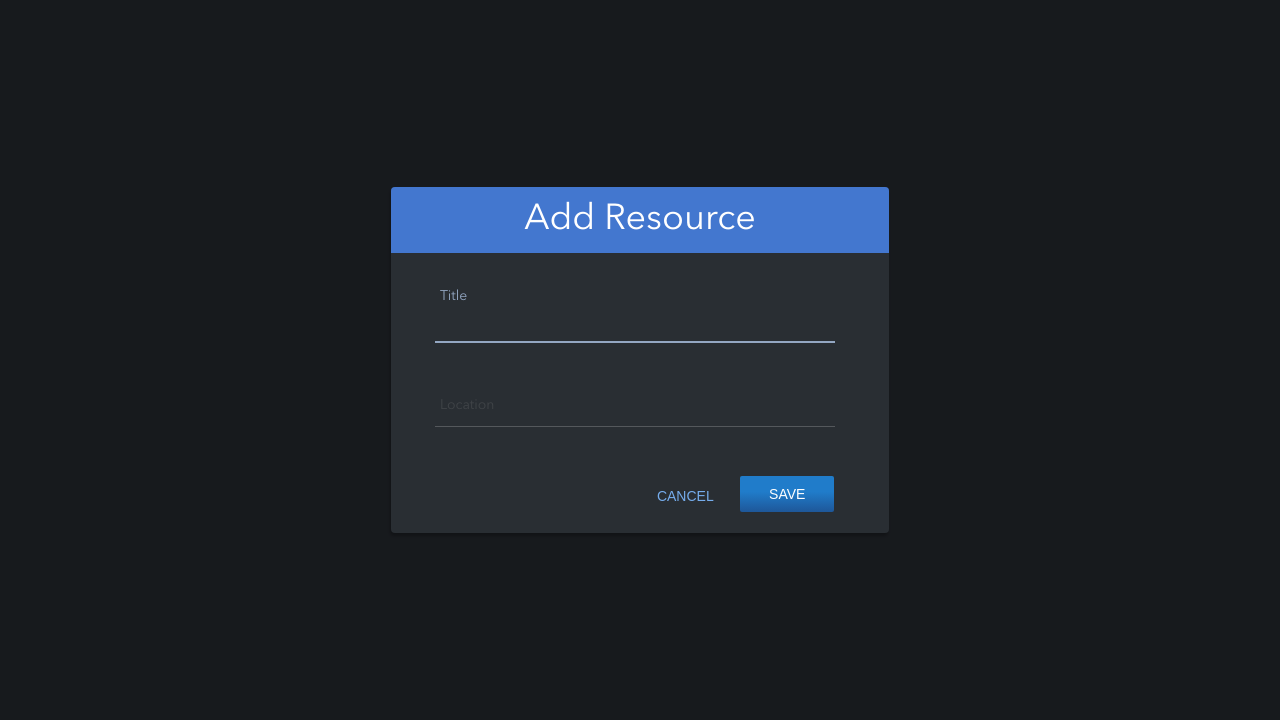
Test: AddResourcePopup › should stop you from inputting an invalid url
In the field with class "urlField": (635, 410) [435,392,835,427], type "www.google.com"
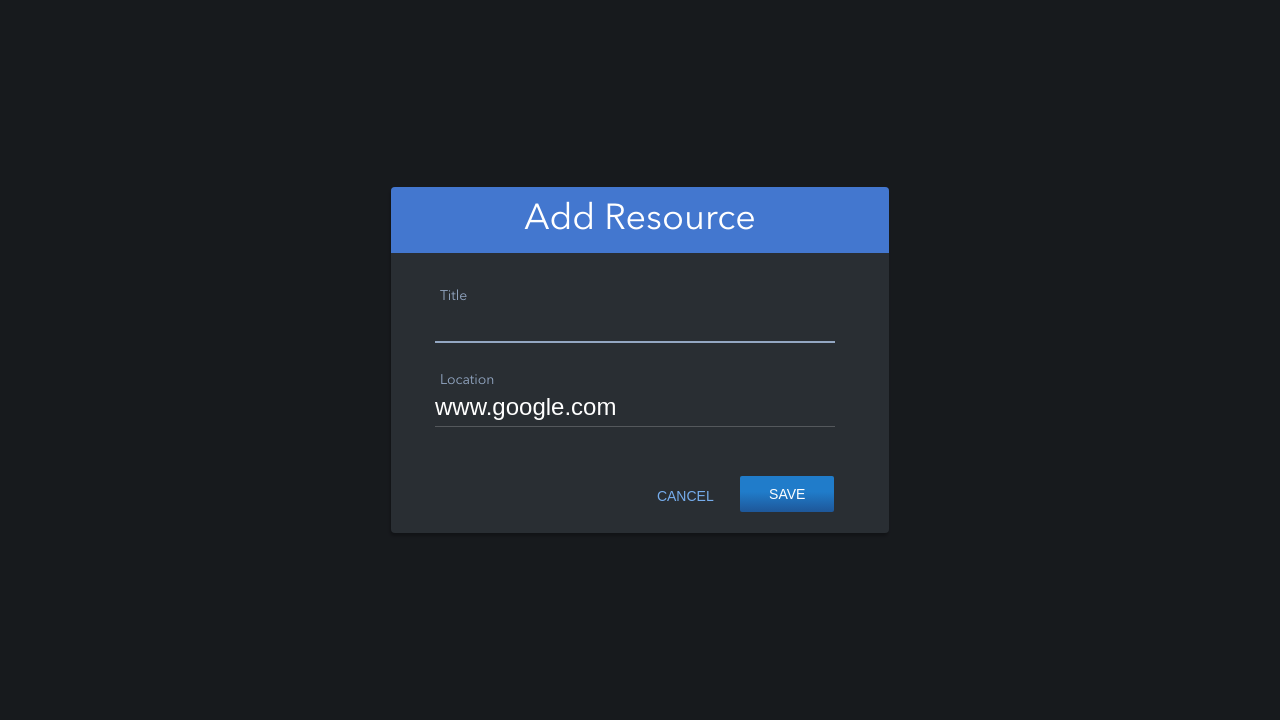
Click the button with class "saveButton": (787, 494) [740,476,834,512]
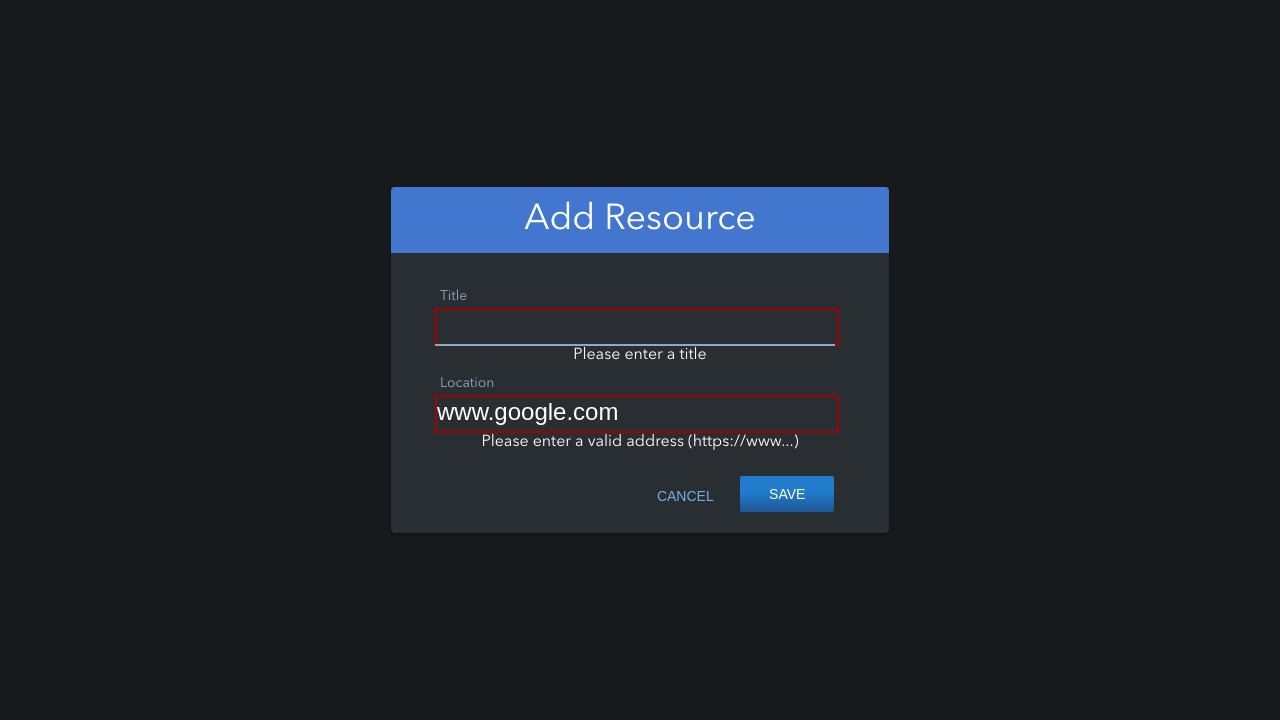
Now the text with class "urlError" reads "Please enter a valid address (https://www...)", box [482,434,798,450]
